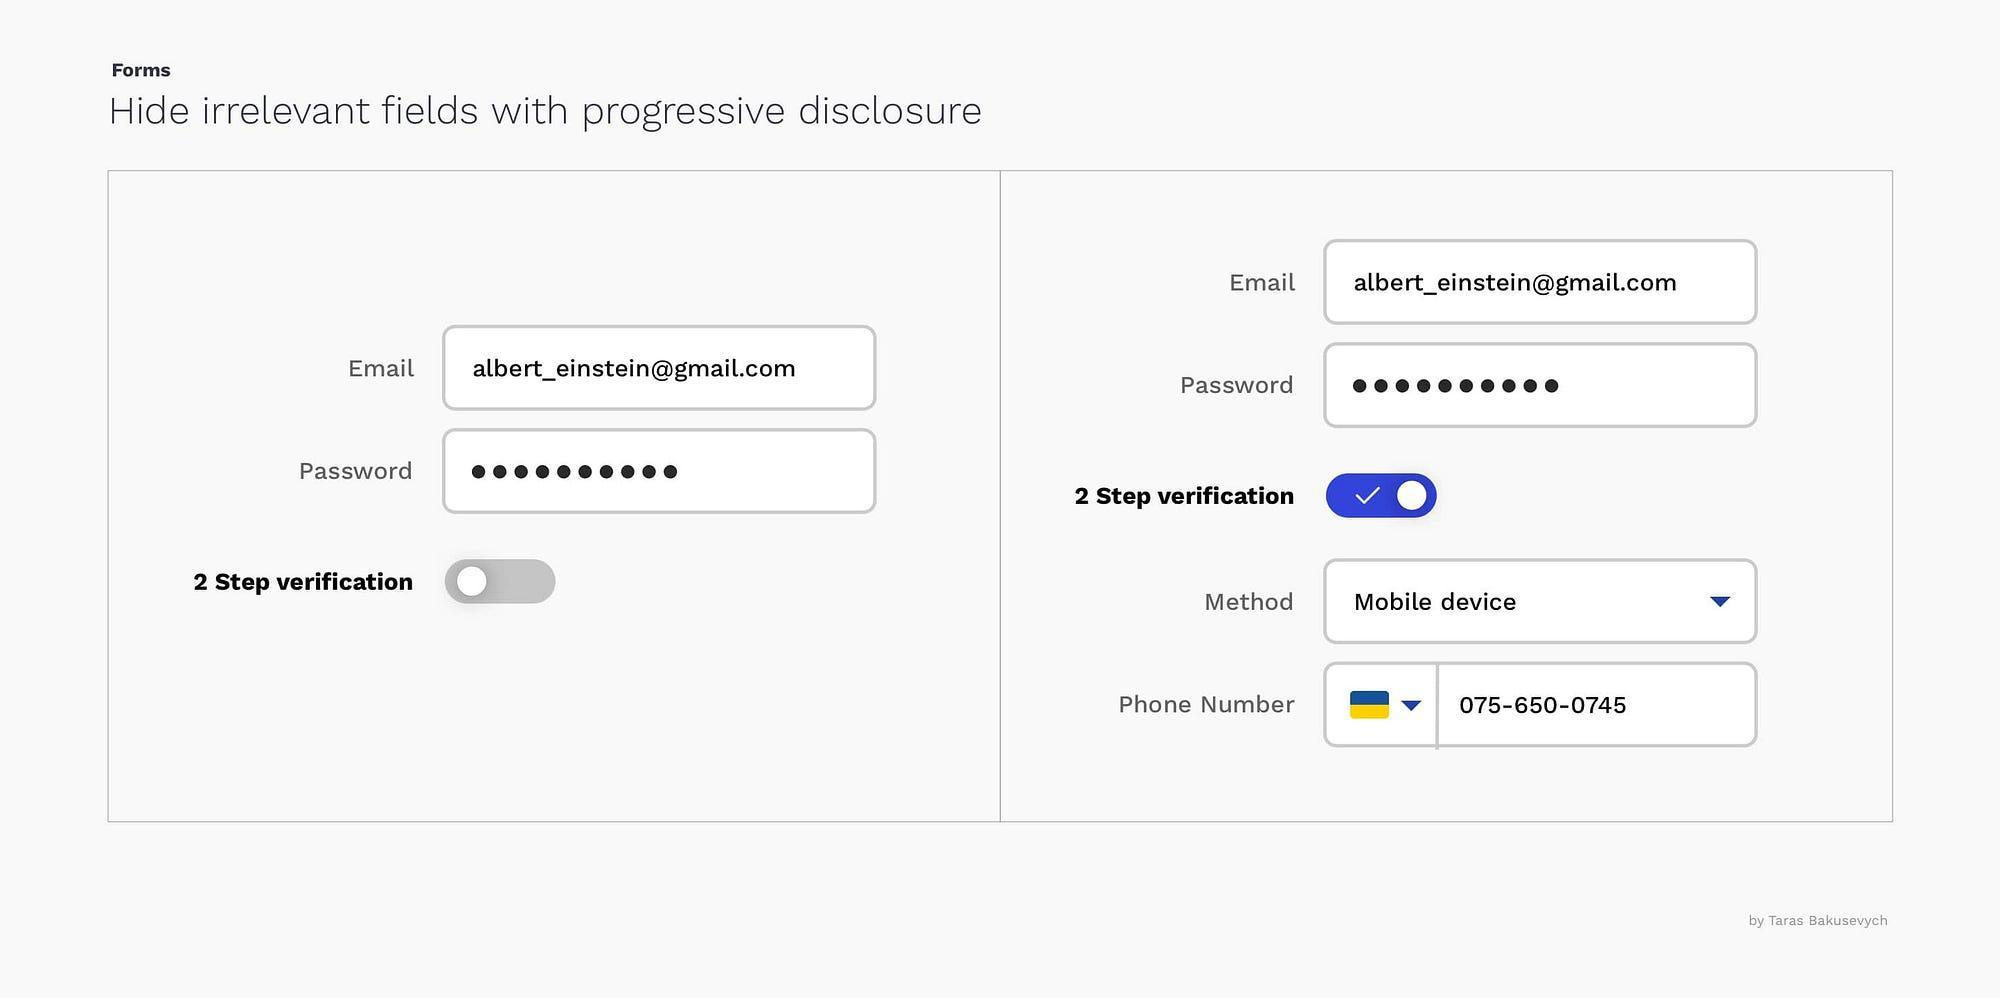dropdown: (1325, 560, 1756, 644)
input: (444, 428, 879, 514), (1325, 242, 1759, 325), (1327, 345, 1756, 428), (445, 329, 878, 408), (1437, 664, 1756, 747)
label: (181, 563, 423, 607), (1059, 479, 1300, 518), (1105, 689, 1310, 724), (1170, 369, 1304, 402), (1195, 581, 1307, 620), (290, 456, 418, 482), (1222, 268, 1301, 302), (342, 355, 423, 385)
switch: (1327, 472, 1439, 519), (446, 560, 557, 607)
